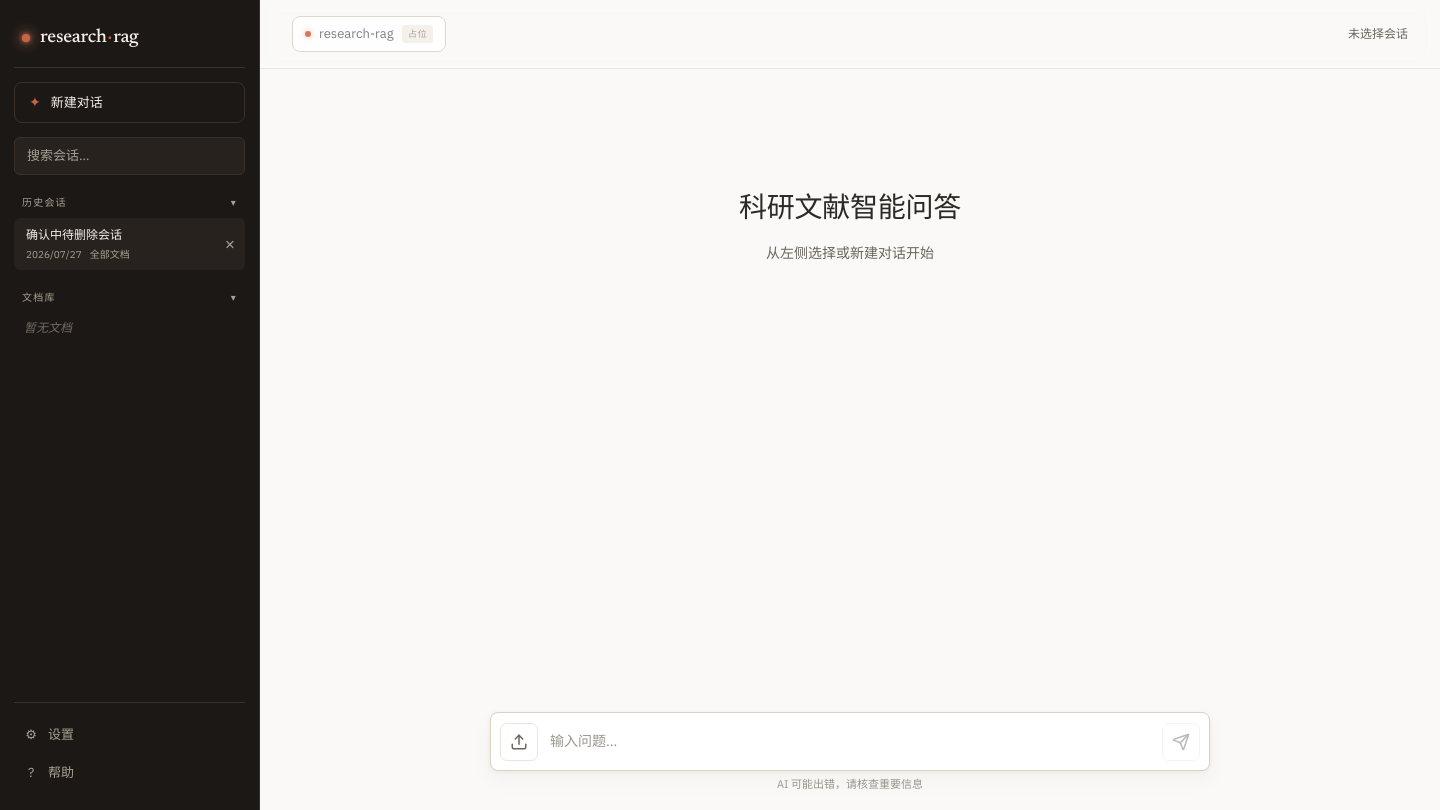
App › 删除持久化确认中的会话前先中止回读请求
The width and height of the screenshot is (1440, 810).
Click the button "确认中待删除会话 2026/07/27 全部文档": [114, 244] box left=15, top=218, right=212, bottom=268
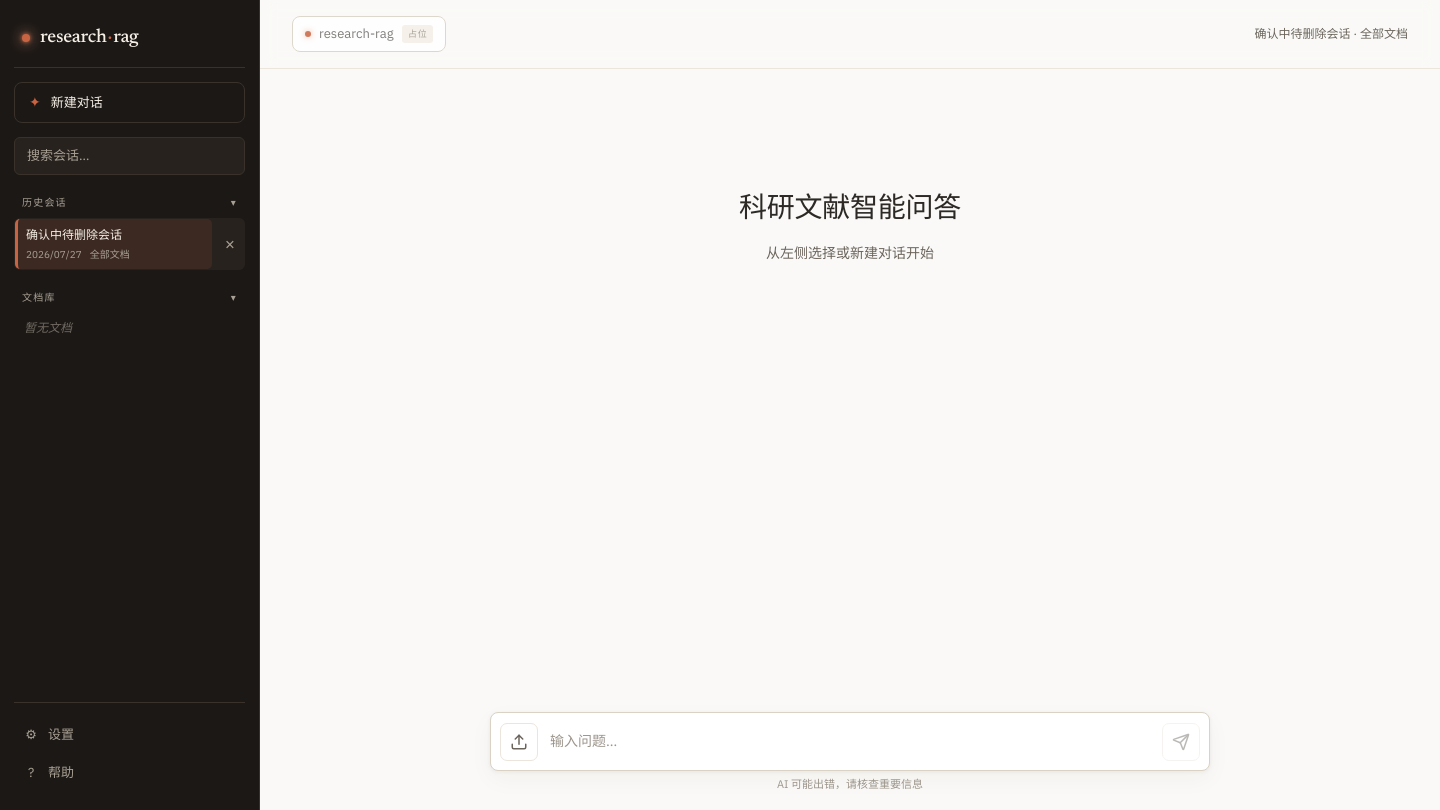
In the text box named "问题输入": [850, 741] box left=546, top=722, right=1154, bottom=760, type "确认期间删除"
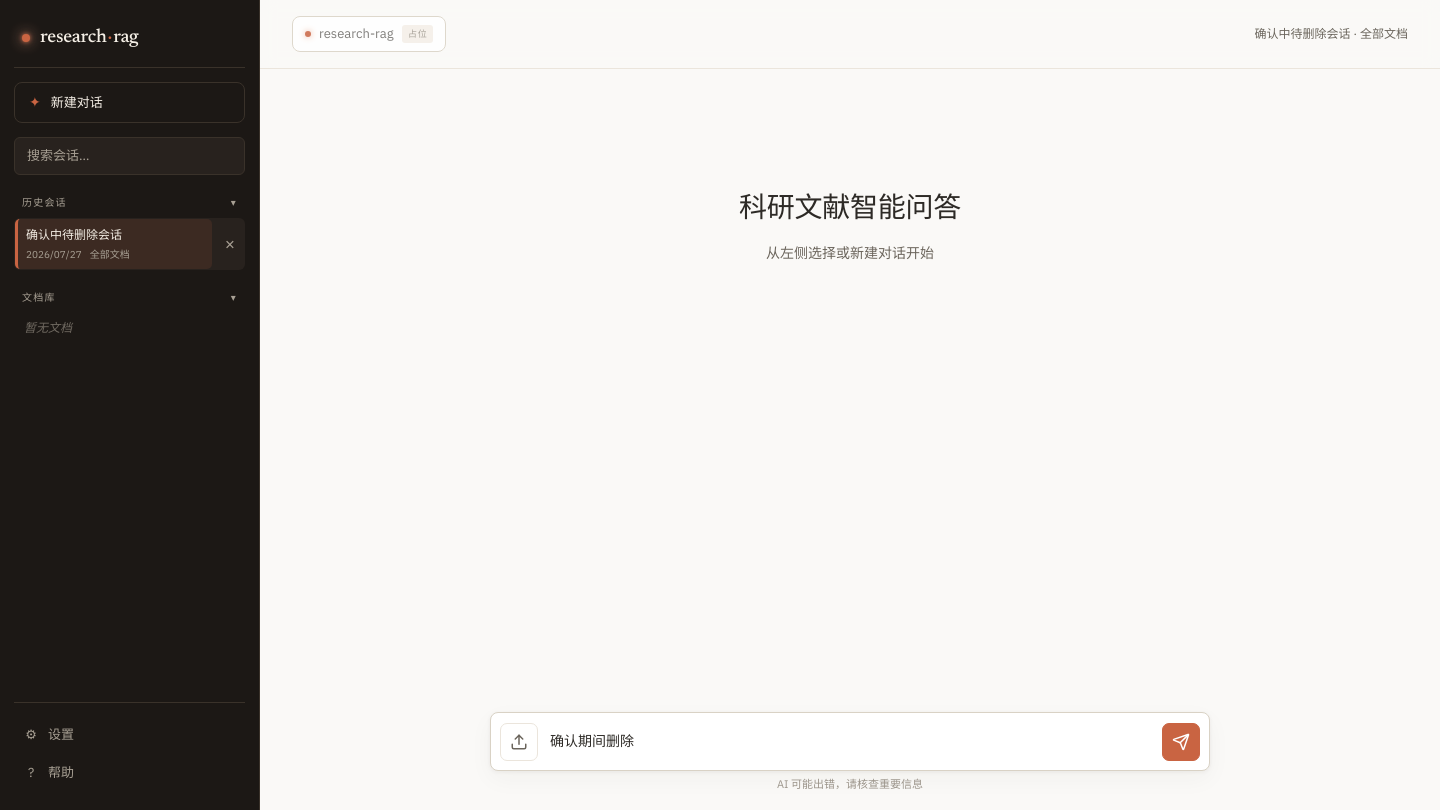
Click the button named "发送": [1181, 742] box left=1162, top=722, right=1200, bottom=760
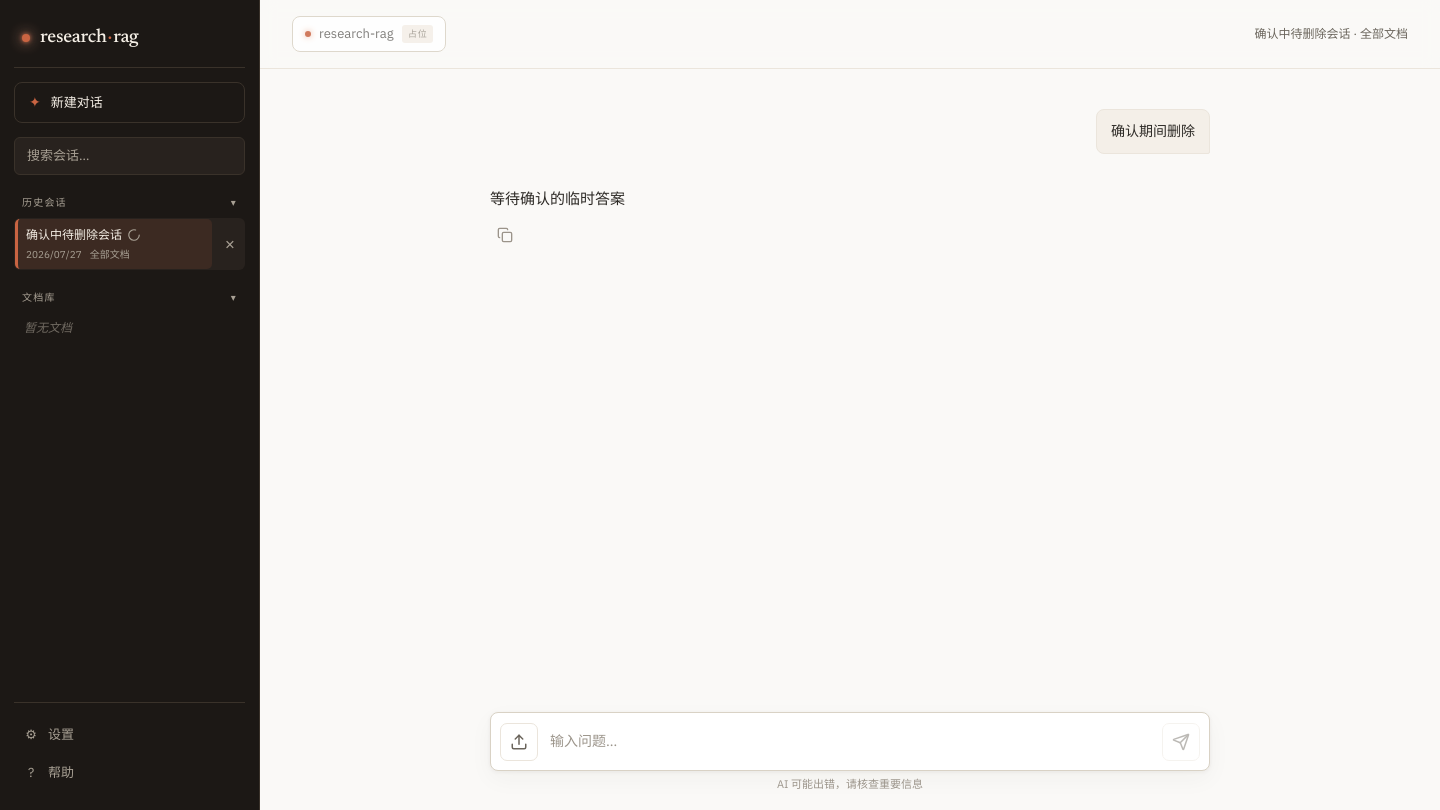
Now the icon named "确认中待删除会话正在生成" is shown, box left=127, top=228, right=141, bottom=242
Click the button named "删除会话 确认中待删除会话": [230, 244] box left=216, top=218, right=244, bottom=268
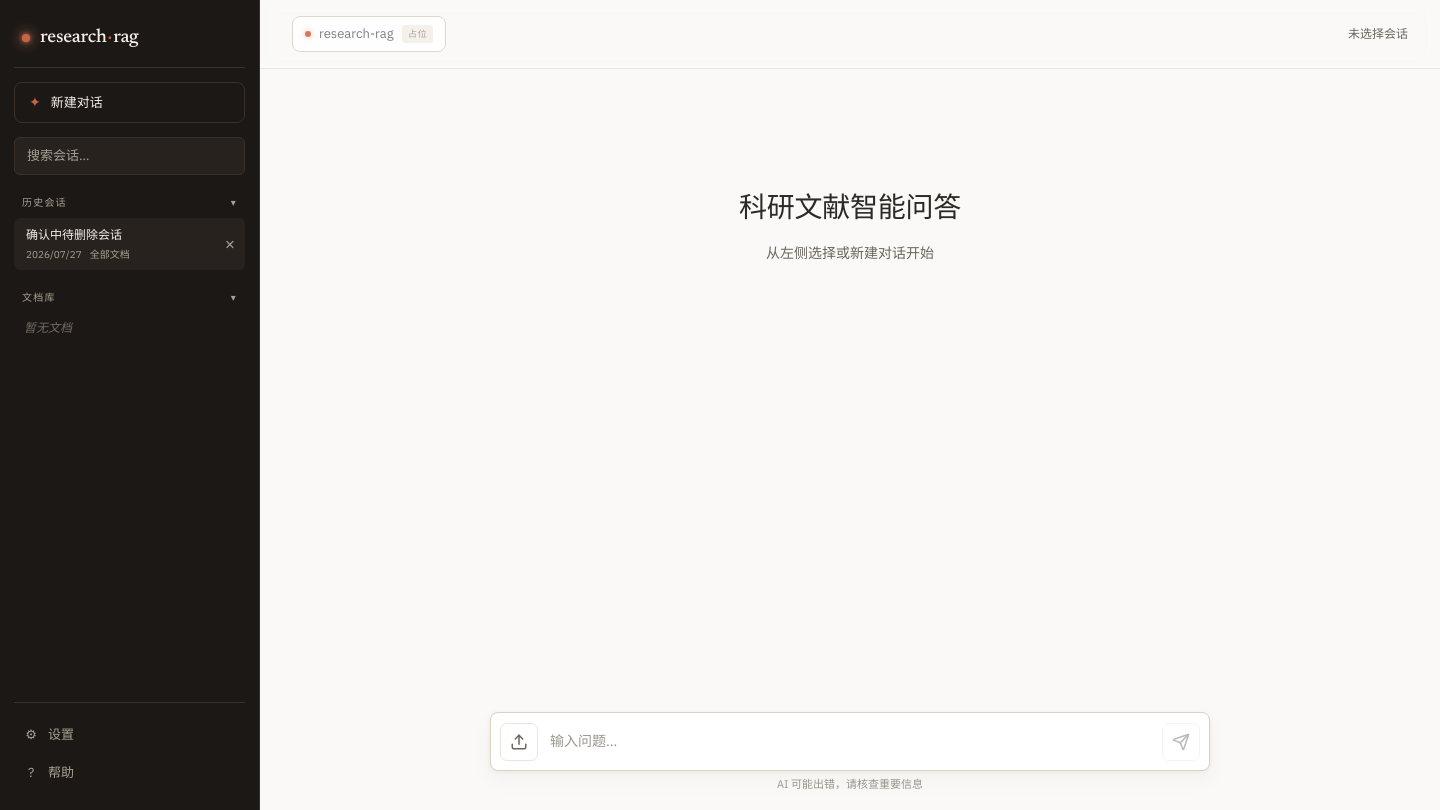
Now the text "确认期间删除" is gone
